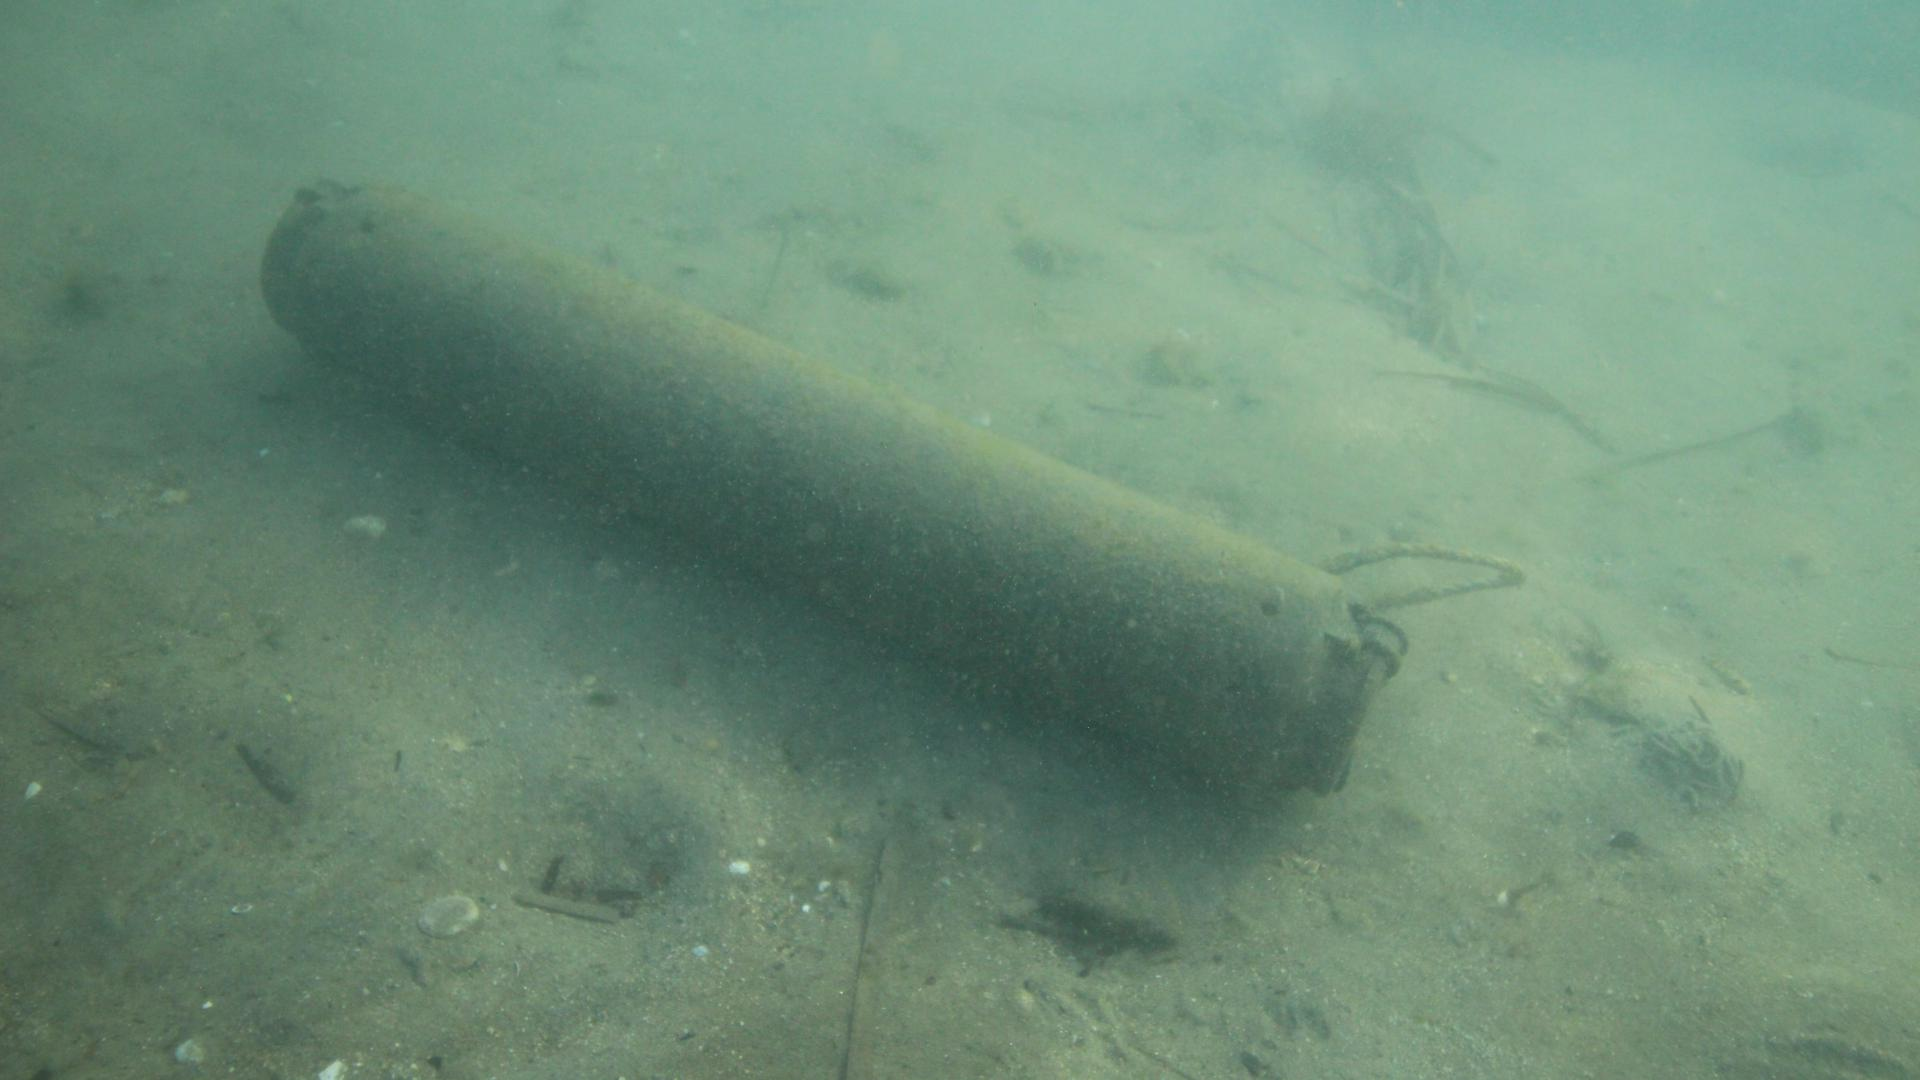eel fish trap: (262, 175, 1403, 802)
rope: (1311, 541, 1528, 613)
